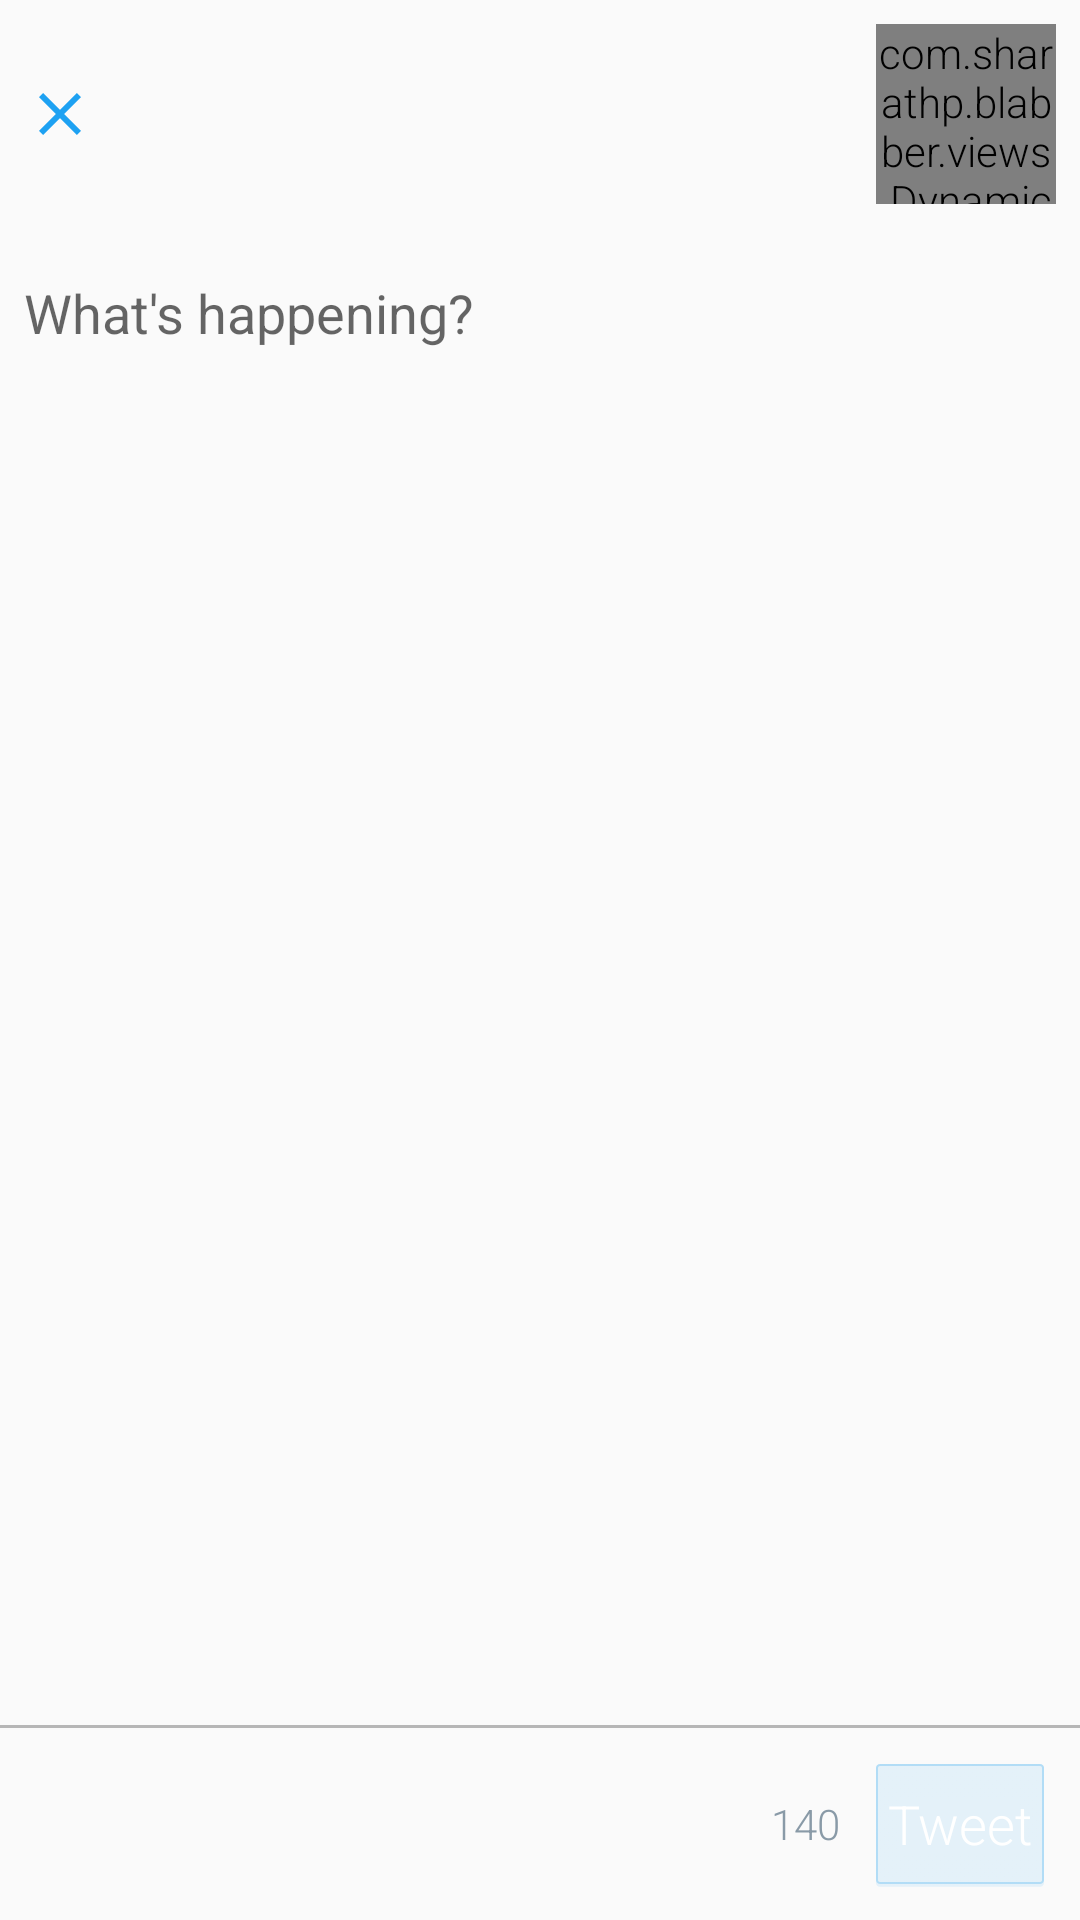

Screen size 1080×1920. Icon name, then its center in pixels as [x,y]:
close: [60,114]
